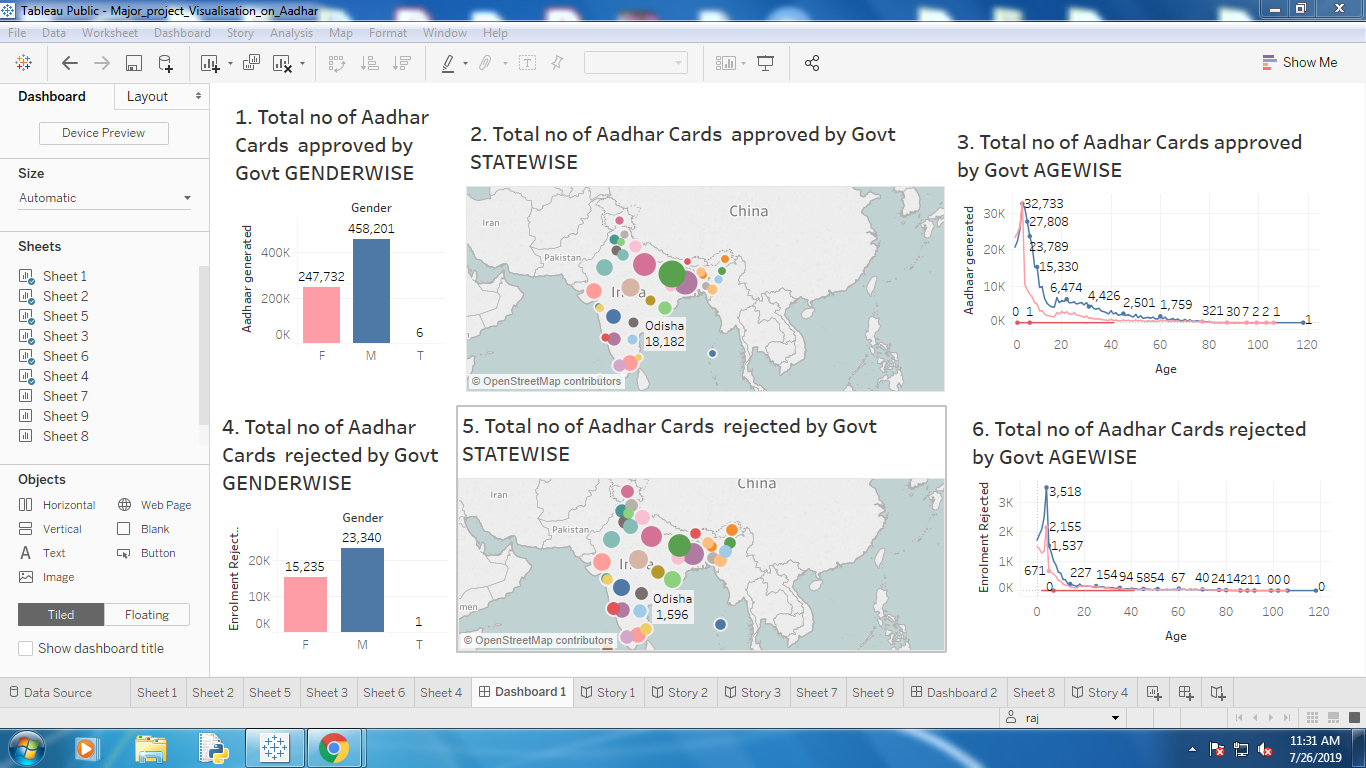

The dashboard page shown, as its layout file describes it:
{"tool":"tableau","page":{"name":"Dashboard 1","canvas":[1000,1000],"units":"permille","ordinal":0},"visuals":[{"type":"worksheet","title":"Sheet 1","mark":"Automatic","rows":["Aadhaar generated"],"cols":["Gender"],"box":[18.2,25.3,185.3,448.6]},{"type":"worksheet","title":"Sheet 2","mark":"Multipolygon","box":[221.7,54,414.7,467.1]},{"type":"worksheet","title":"Sheet 3","mark":"Automatic","rows":["Aadhaar generated"],"cols":["Age"],"box":[643.3,67.5,317.8,440.1]},{"type":"worksheet","title":"Sheet 5","mark":"Multipolygon","box":[214.7,546.4,421.7,411.5]},{"type":"worksheet","title":"Sheet 4","mark":"Automatic","rows":["Enrolment Rejected"],"cols":["Gender"],"box":[6.9,548.1,199.1,413.2]},{"type":"worksheet","title":"Sheet 6","mark":"Automatic","rows":["Enrolment Rejected"],"cols":["Age"],"box":[656.3,551.4,315.2,406.4]}]}

Visuals, with their boxes on the dashboard's canvas, which has no fixed pixel size, in thousandths of its width and height (x1, y1, x2, y2). These are canvas units, not pixel positions in the 1366x768 screenshot, which may show the page scaled, cropped or inside an application window:
"Sheet 1" worksheet: 18,25,204,474
"Sheet 2" worksheet (Multipolygon marks): 222,54,636,521
"Sheet 3" worksheet: 643,68,961,508
"Sheet 5" worksheet (Multipolygon marks): 215,546,636,958
"Sheet 4" worksheet: 7,548,206,961
"Sheet 6" worksheet: 656,551,972,958
